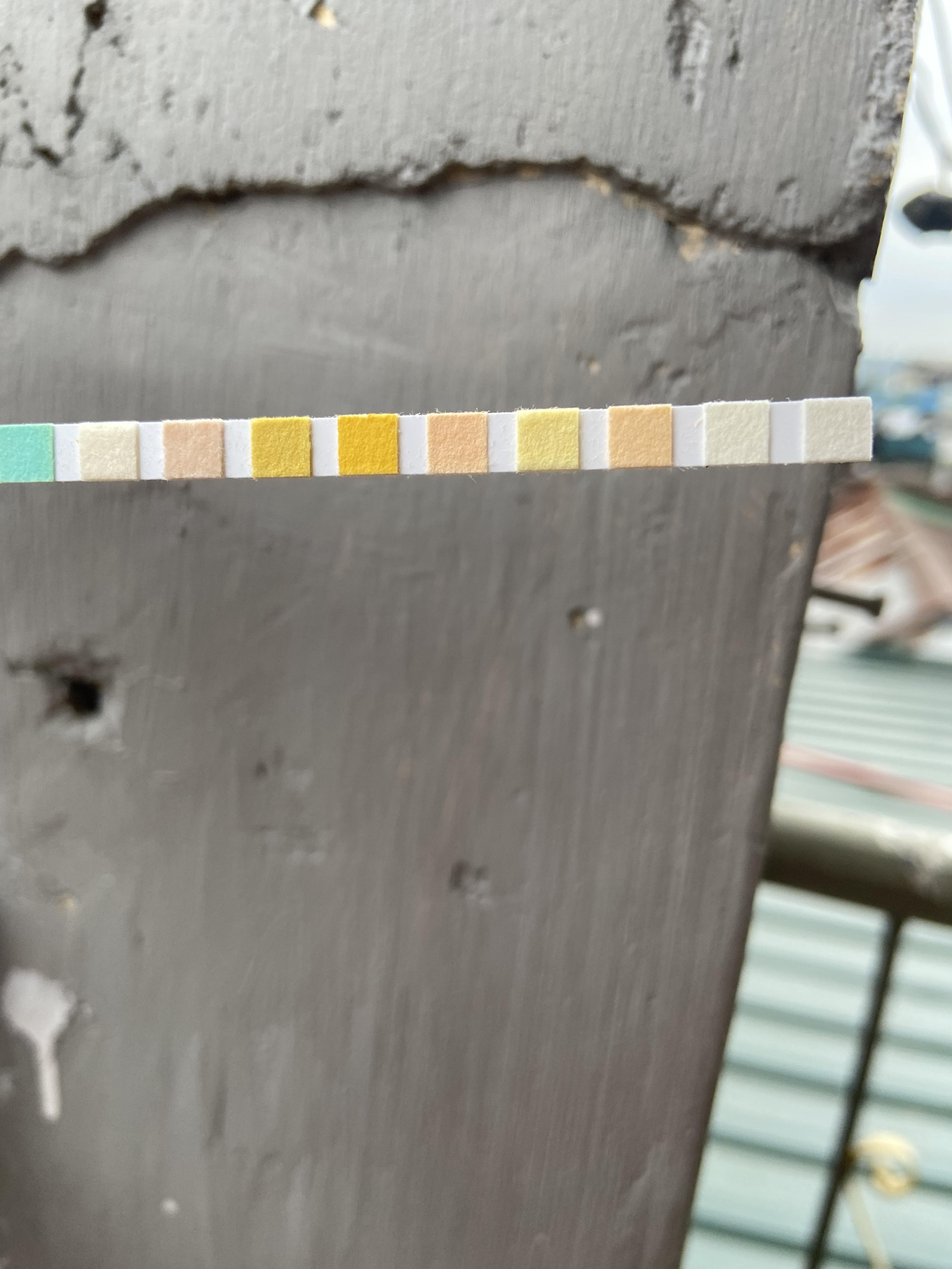Bilirubin: (80, 426, 136, 479)
Blood: (340, 419, 396, 472)
Glucose: (0, 425, 52, 481)
Ketone: (165, 425, 221, 478)
Leukocytes: (808, 402, 870, 460)
Nitrite: (707, 405, 768, 462)
Protein: (520, 414, 577, 468)
SpGravity: (254, 422, 309, 475)
Urobilinogen: (612, 409, 669, 465)
pH: (430, 415, 486, 470)
strip: (0, 396, 872, 483)
